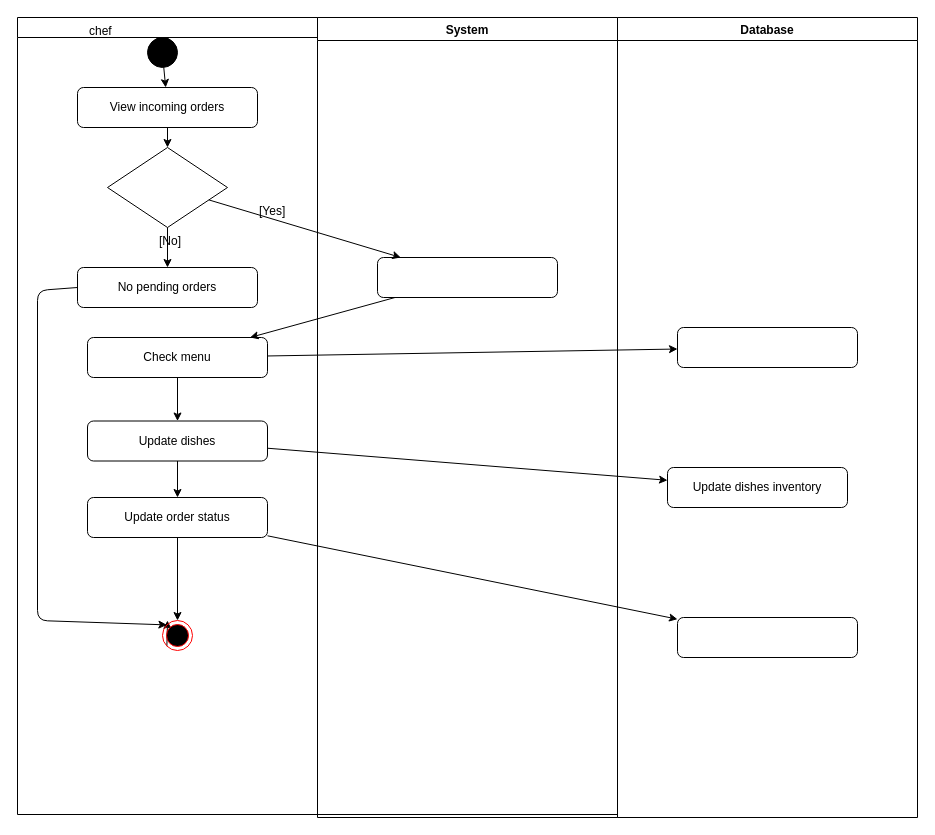
Some shapes in this 935 by 835 pixel diagram are drawn without their labels. Each missing label, with the centre of its shape:
"Display order list" goes at (x=467, y=277).
"Orders available?" goes at (x=167, y=187).
"Save order status" goes at (x=767, y=637).
"Store menu changes" goes at (x=767, y=347).
